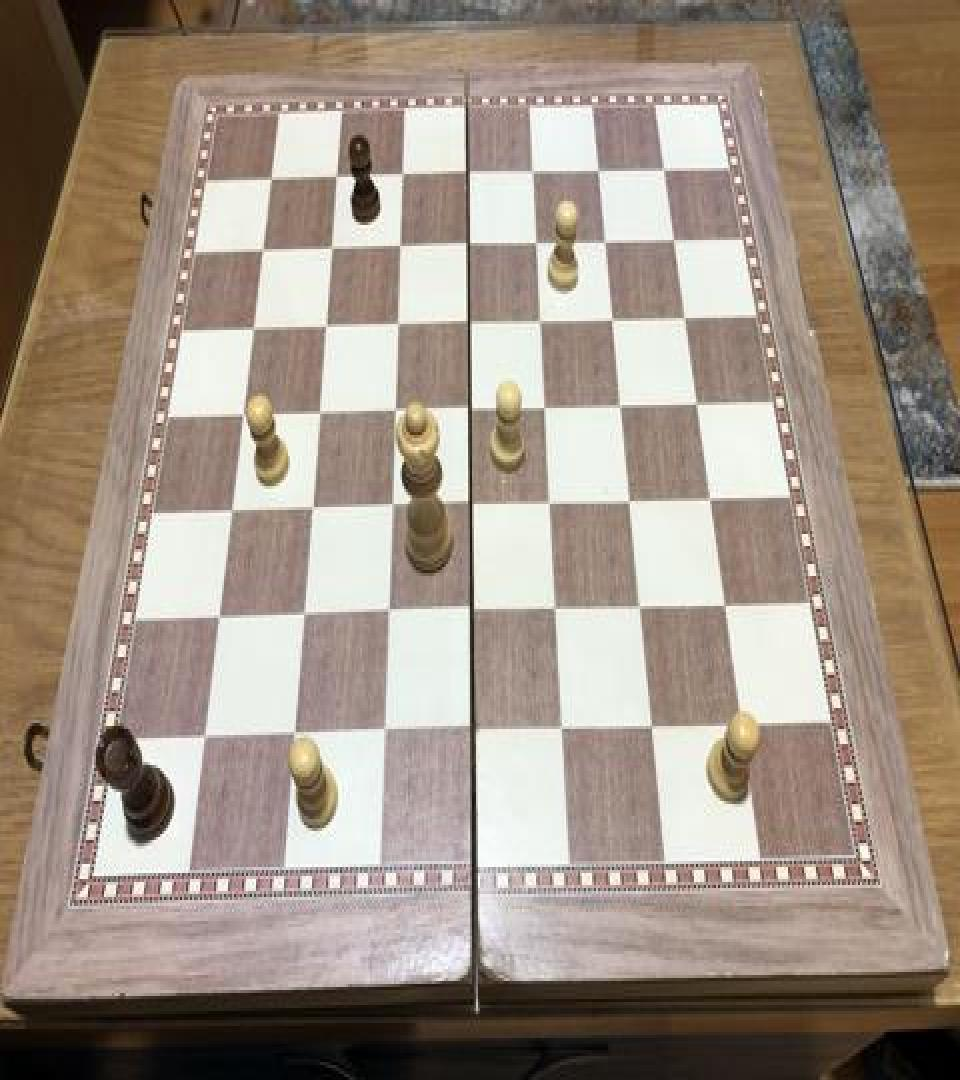xcorner: (207, 601, 231, 638), (460, 712, 484, 749), (282, 718, 306, 755), (653, 147, 677, 183), (587, 150, 611, 186), (521, 153, 545, 189), (455, 156, 479, 192), (389, 158, 413, 194), (324, 160, 348, 196), (258, 164, 282, 200), (663, 219, 687, 255), (594, 222, 618, 258), (525, 225, 549, 261), (456, 226, 480, 262), (387, 230, 411, 266), (318, 232, 342, 268), (250, 236, 274, 272), (674, 297, 698, 333), (601, 300, 625, 336), (529, 303, 553, 339), (456, 306, 480, 342), (384, 309, 408, 345), (313, 310, 337, 346), (241, 314, 265, 350), (685, 384, 709, 420), (609, 387, 633, 423), (533, 388, 557, 424), (457, 392, 481, 428), (381, 394, 405, 430), (306, 398, 330, 434), (231, 400, 255, 436), (698, 478, 722, 514), (618, 482, 642, 518), (538, 484, 562, 520), (458, 488, 482, 524), (378, 490, 402, 526), (299, 494, 323, 530), (220, 496, 244, 532), (713, 585, 737, 621), (628, 588, 652, 624), (543, 591, 567, 627), (459, 594, 483, 630), (375, 597, 399, 633), (291, 600, 315, 636), (729, 705, 753, 741), (639, 706, 663, 742), (549, 710, 573, 746), (371, 716, 395, 752), (194, 722, 218, 758)
